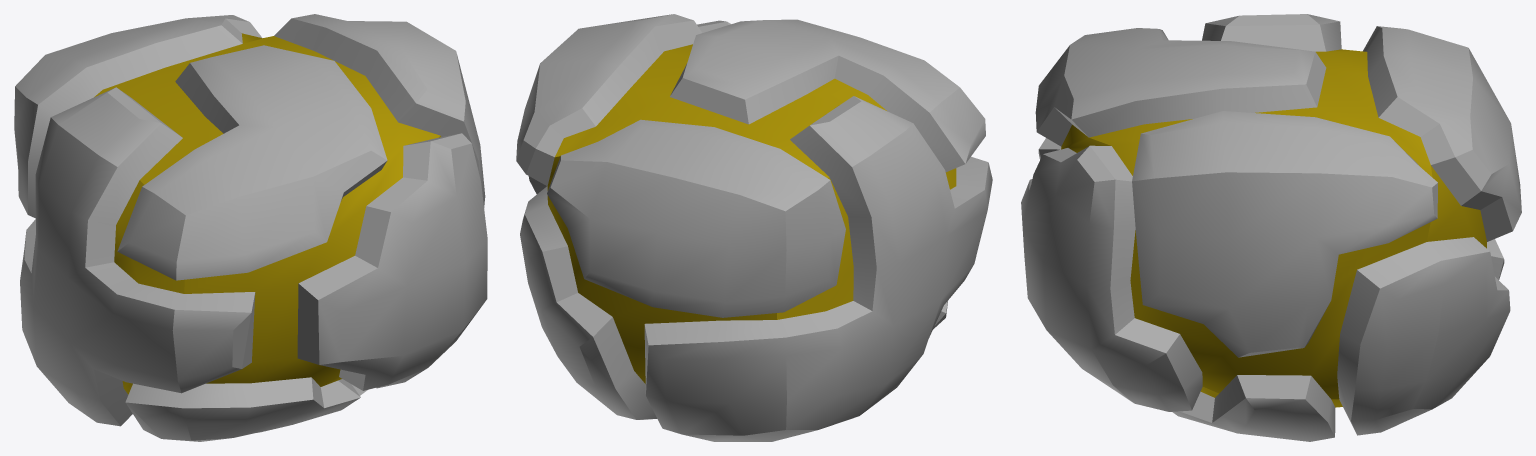
File: meteor.fbx
3 renders of one model, left to right at view 1: azimuth 30°, elevation 25°; view 2: azimuth 150°, elevation 25°; view 3: azimuth 270°, elevation 25°, orthographic. The views are drawn at different scales.
Visible parts, largest first — view 1: pCube1; view 2: pCube1; view 3: pCube1.
Part boxes in pixels (x1,y1,x2,y2): pCube1: (14,14,487,441); pCube1: (516,14,992,441); pCube1: (1021,14,1521,441).
Bounding box in the file's own units: 167 × 141 × 175.
